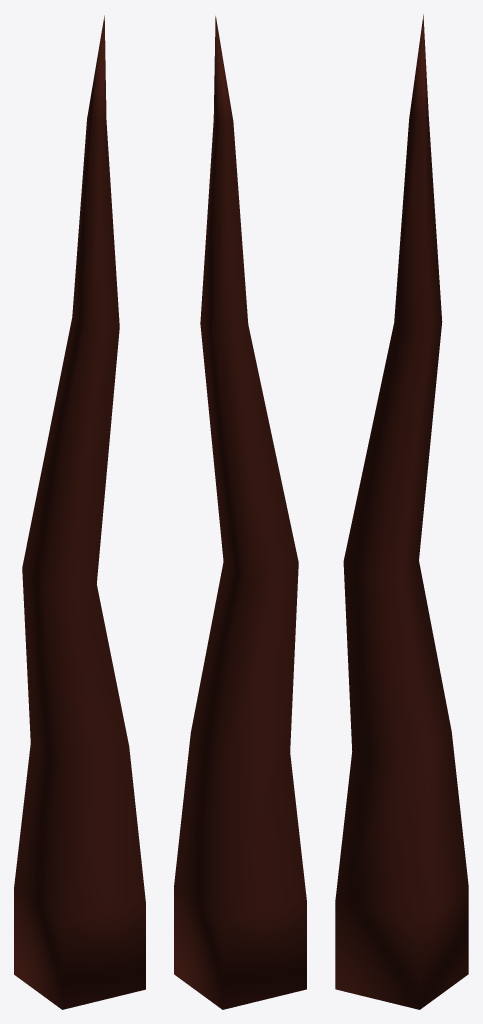
The model's file is Tree Trunk 1.obj.
The picture shows the model from 3 angles, left to right: view 1: azimuth 30°, elevation 25°; view 2: azimuth 210°, elevation 25°; view 3: azimuth 330°, elevation 25°; orthographic projection.
Parts seen in each view (by area): view 1: Tree_Trunk; view 2: Tree_Trunk; view 3: Tree_Trunk.
Boxes of the visible parts, x1,y1,x2,y2 form: Tree_Trunk: (14,15,145,1009); Tree_Trunk: (174,16,306,1009); Tree_Trunk: (335,14,468,1009).
Bounding box in the file's own units: 0.8215 × 8.82 × 0.8.
